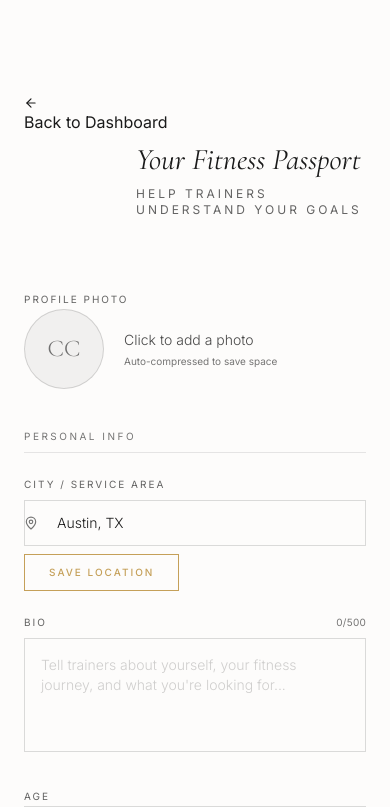
Scenario: ClientPassport location editing › restores a saved location instead of allowing it to be cleared
Step 1. Clear the field with placeholder "City or service area" → (195, 523), box left=24, top=500, right=366, bottom=546
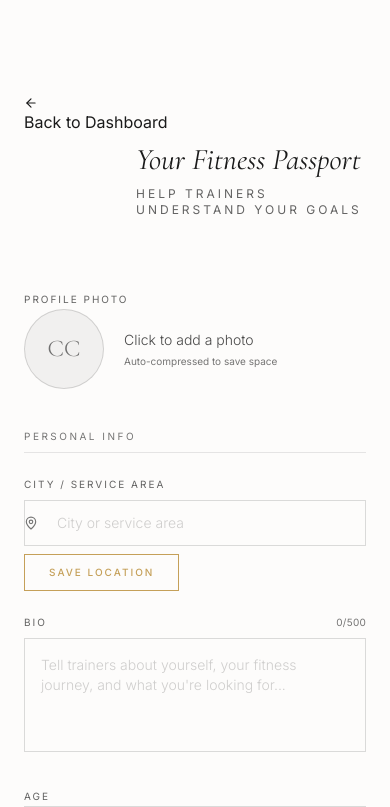
Step 2. Click the button "Save Location" → (102, 572), box left=24, top=554, right=179, bottom=591
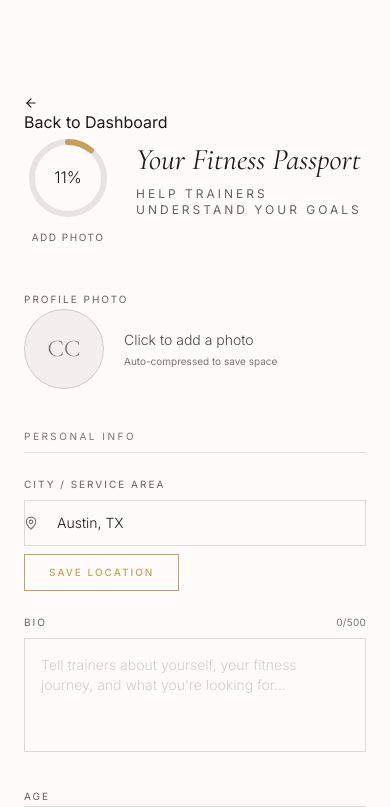
Result: the field with placeholder "City or service area" holds "Austin, TX" at left=24, top=500, right=366, bottom=546
